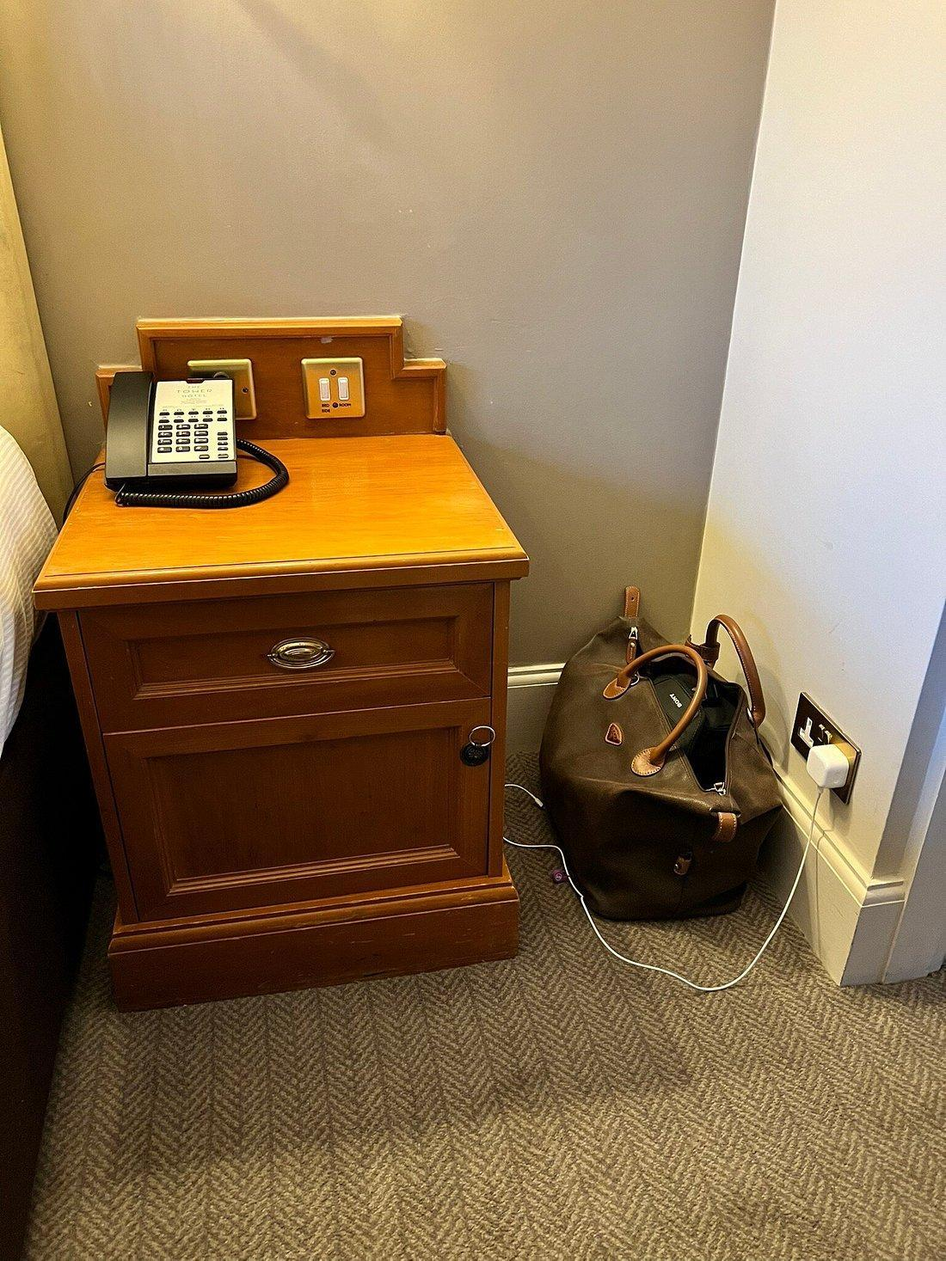organized table: (62, 400, 525, 993)
